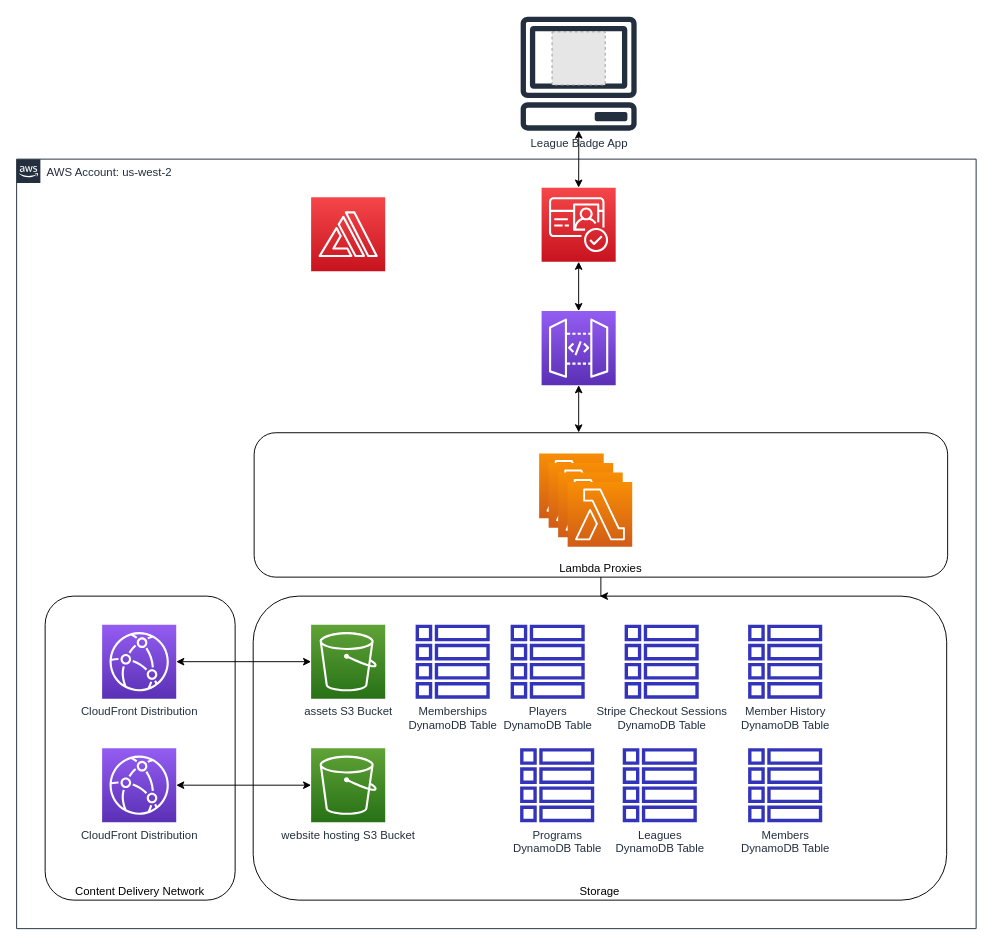
This 993x945 diagram has some shape labels left out. Grey dashed boxes stand in for pictures. Here are the shapes that lost their labels. From the top down, the centre of each, then its label:
(347,233): AWS Amplify
(578,224): User Authentication Cognito
(578,347): playercards API Gateway
